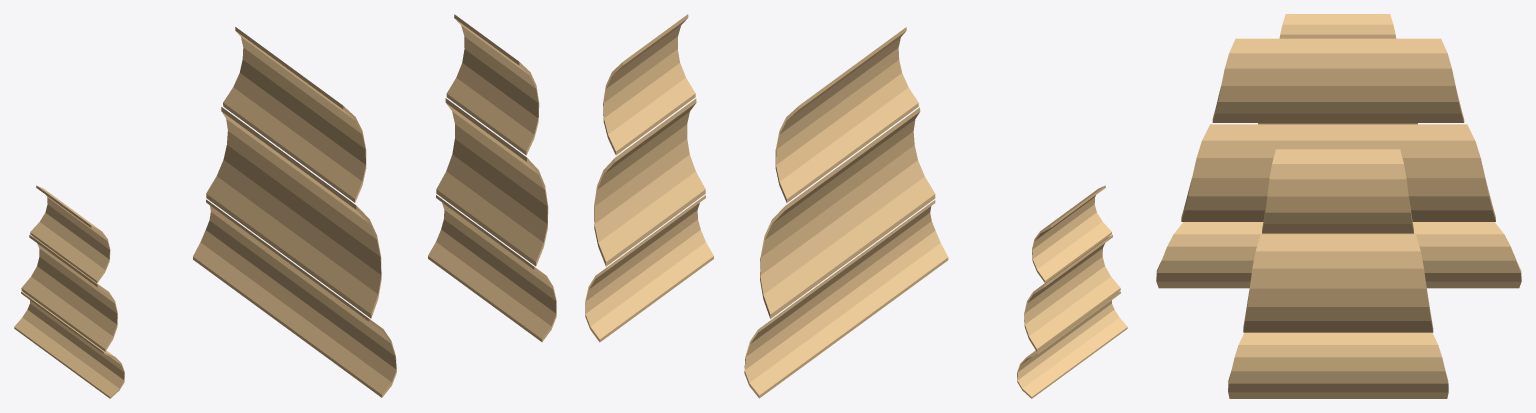
File: SailsFull.fbx
3 views of the same model, side by side, from view 1: azimuth 30°, elevation 25°; view 2: azimuth 150°, elevation 25°; view 3: azimuth 270°, elevation 25° (orthographic). The views are drawn at different scales.
Visible parts, largest first — view 1: Sail Full Mid 2, Sail Full Mid 3, Sail Full Mid 1, Sail Full Front 2, Sail Full Front 3, Sail Full Front 1, Sail Full Back 2, Sail Full Back 3, Sail Full Back 1; view 2: Sail Full Mid 2, Sail Full Mid 3, Sail Full Mid 1, Sail Full Front 2, Sail Full Front 3, Sail Full Front 1, Sail Full Back 2, Sail Full Back 3, Sail Full Back 1; view 3: Sail Full Mid 1, Sail Full Mid 2, Sail Full Front 2, Sail Full Front 3, Sail Full Mid 3, Sail Full Front 1, Sail Full Back 1.
Boxes of the visible parts, x1,y1,x2,y2 form: Sail Full Mid 2: [206, 107, 381, 318]; Sail Full Mid 3: [193, 199, 396, 397]; Sail Full Mid 1: [223, 27, 366, 202]; Sail Full Front 2: [436, 98, 548, 266]; Sail Full Front 3: [428, 195, 556, 341]; Sail Full Front 1: [446, 14, 539, 155]; Sail Full Back 2: [21, 235, 117, 351]; Sail Full Back 3: [14, 291, 124, 398]; Sail Full Back 1: [30, 185, 110, 282]; Sail Full Mid 2: [760, 107, 935, 318]; Sail Full Mid 3: [744, 200, 948, 398]; Sail Full Mid 1: [775, 27, 918, 202]; Sail Full Front 2: [594, 98, 705, 266]; Sail Full Front 3: [585, 195, 713, 342]; Sail Full Front 1: [603, 14, 695, 155]; Sail Full Back 2: [1024, 234, 1120, 351]; Sail Full Back 3: [1017, 291, 1127, 398]; Sail Full Back 1: [1032, 185, 1111, 282]; Sail Full Mid 1: [1212, 38, 1464, 122]; Sail Full Mid 2: [1181, 124, 1495, 221]; Sail Full Front 2: [1243, 235, 1433, 332]; Sail Full Front 3: [1228, 332, 1448, 398]; Sail Full Mid 3: [1156, 222, 1521, 288]; Sail Full Front 1: [1262, 149, 1413, 233]; Sail Full Back 1: [1279, 14, 1396, 38].
Bounding box in the file's own units: 8166 × 10829 × 6642.
